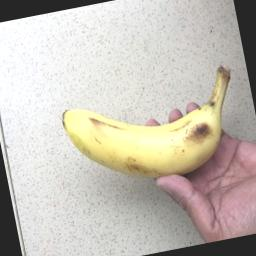Banana Ripe: (38, 60, 256, 206)
